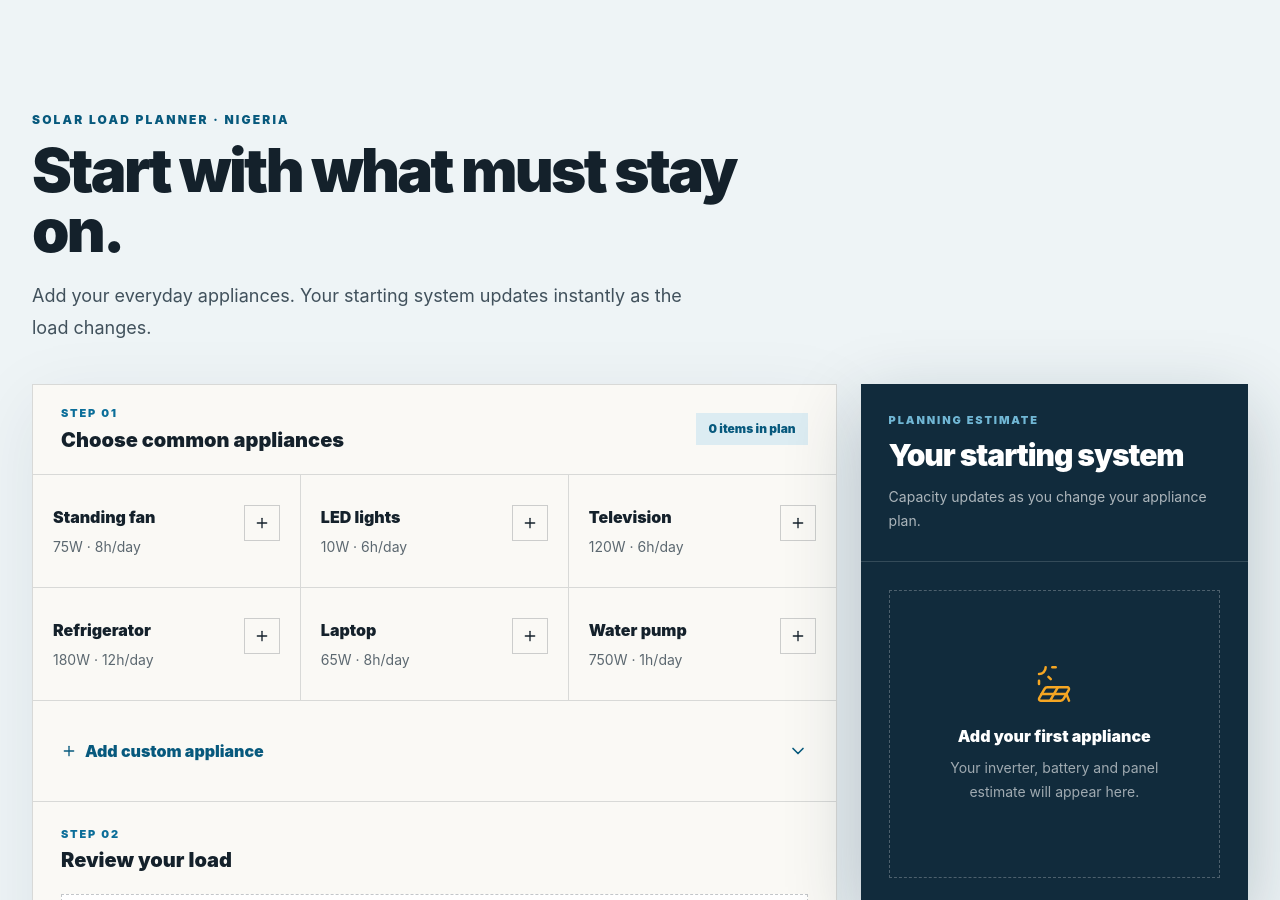
Test case: SolarEstimator › updates the live estimate and lets customers adjust a selected load
Click the button with aria-label "add standing fan" at (104, 516), box [33,474,300,586]
(page scrolled)
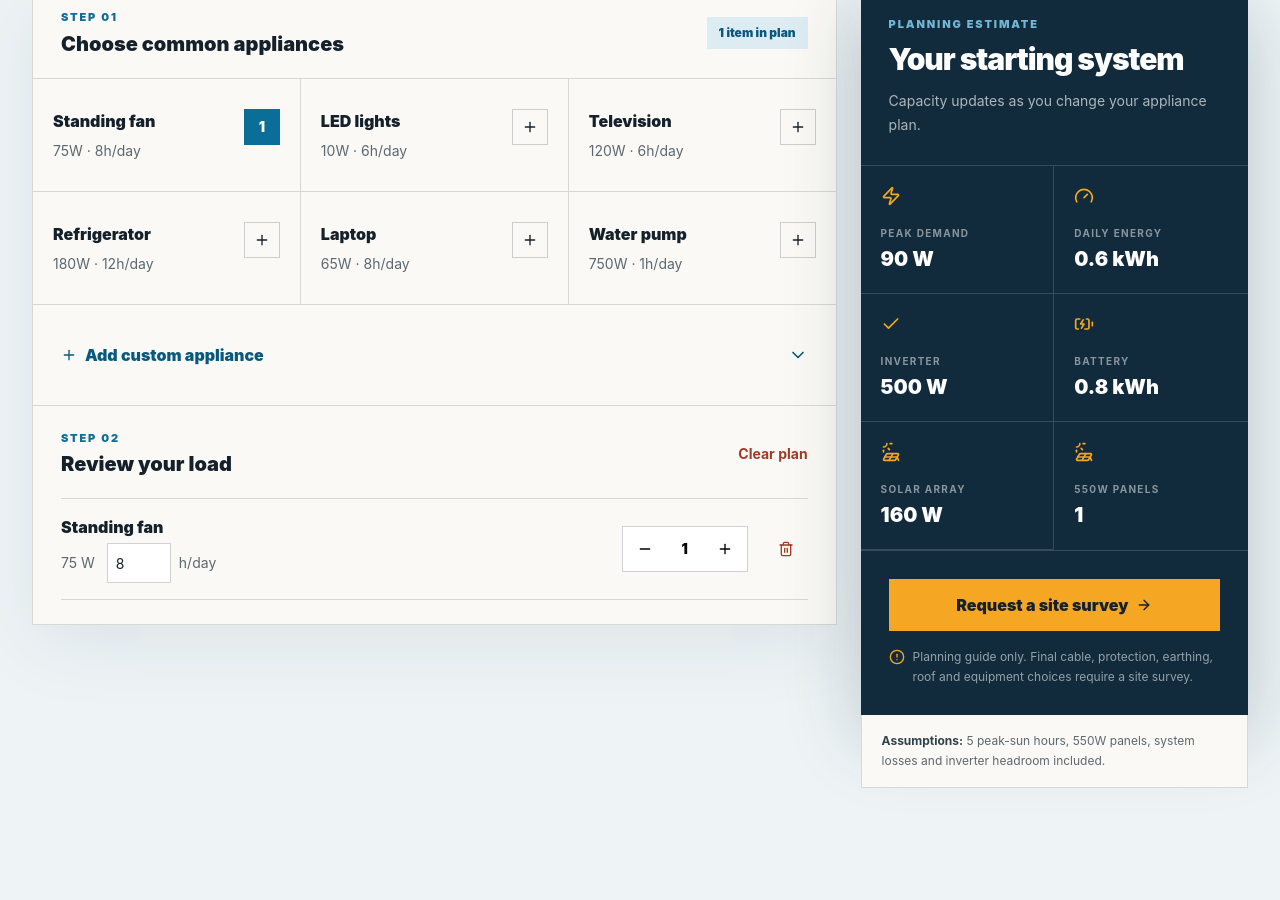
Expected: the heading "Your starting system" is shown, [889,40,1220,76]
Expected: the text "75 W" is shown, [61,553,95,573]
Click the button named "increase standing fan quantity" at (725, 549), box [703,527,747,571]
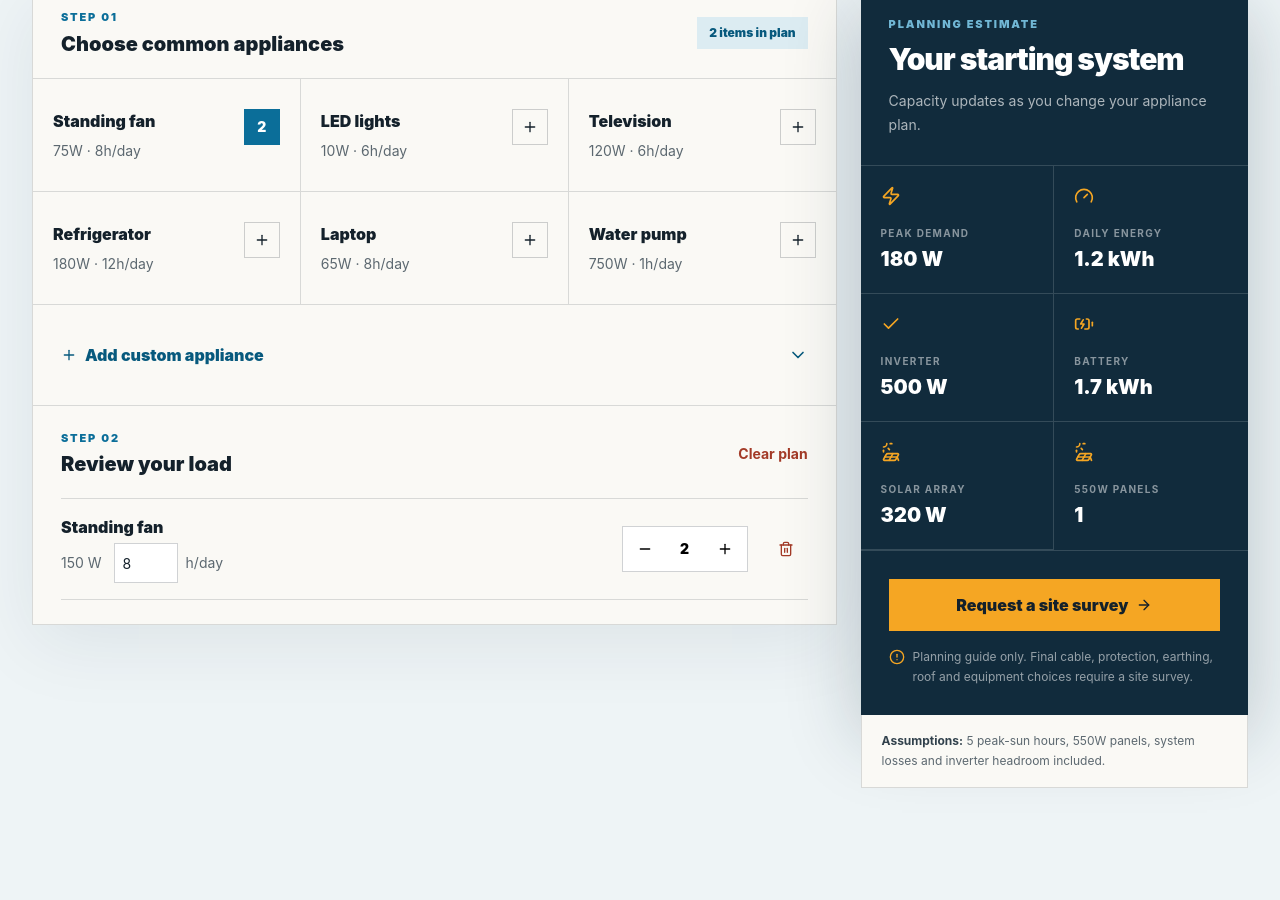
Expected: the text "150 W" is shown, [61,553,102,573]
Click the button named "decrease standing fan quantity" at (645, 549), box [623,527,667,571]
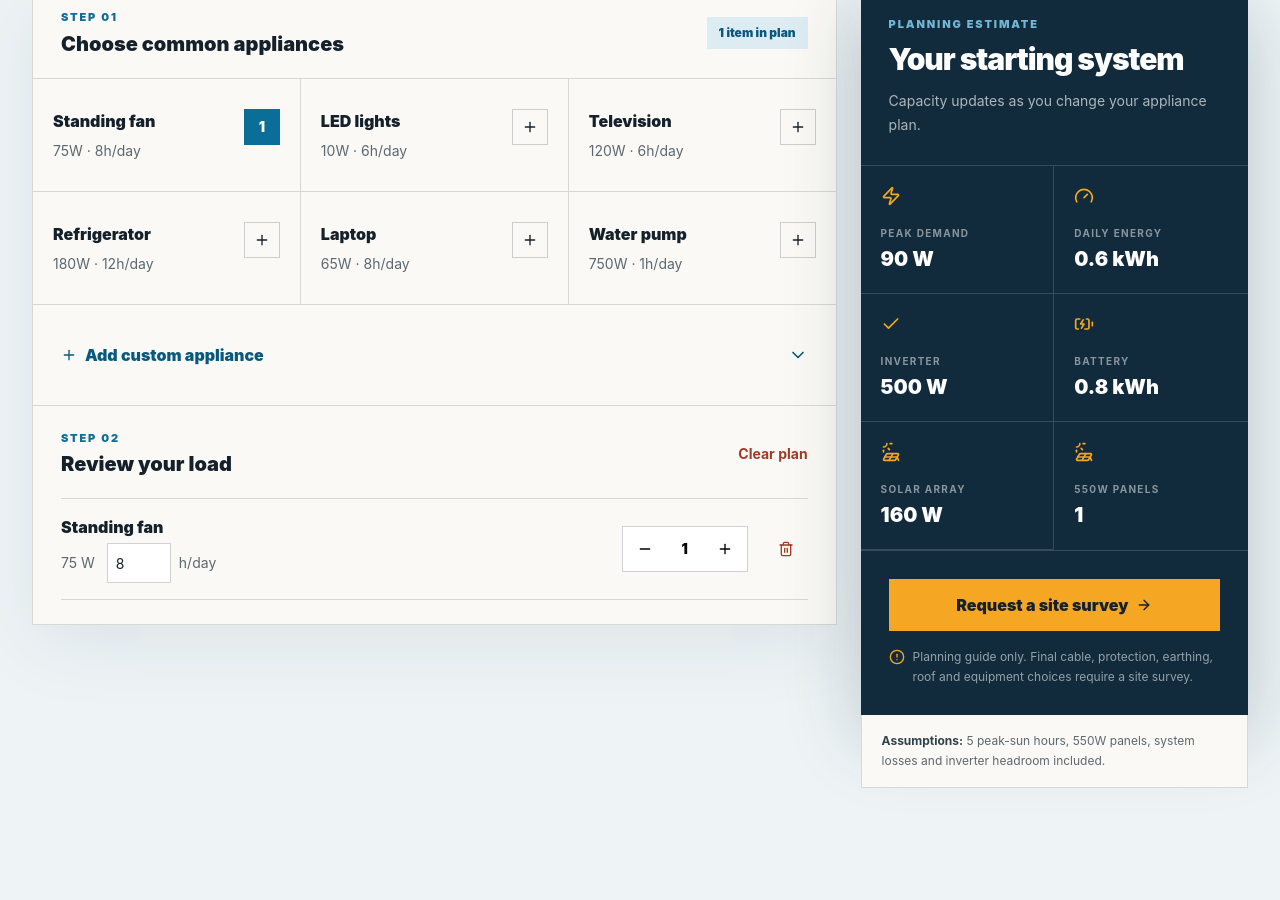
Expected: the button "Request a site survey" is shown, [889,578,1220,630]
Expected: the text "75 W" is shown, [61,553,95,573]
